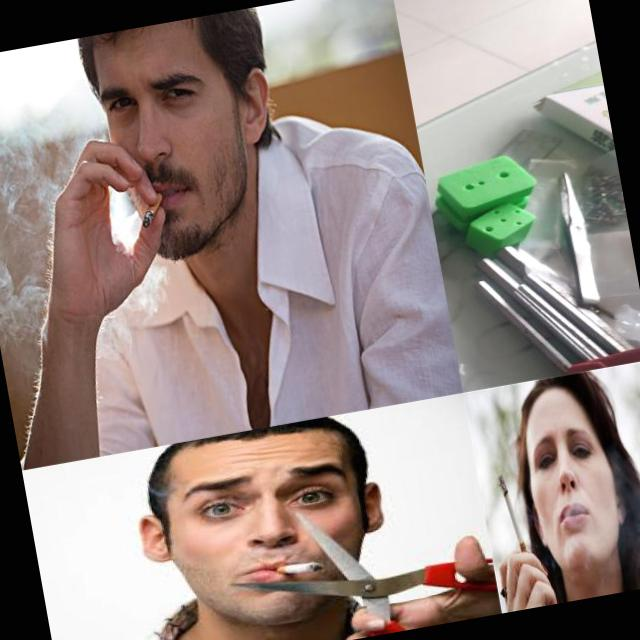smoke: (494, 468, 534, 558), (134, 182, 170, 230), (275, 558, 324, 578)
